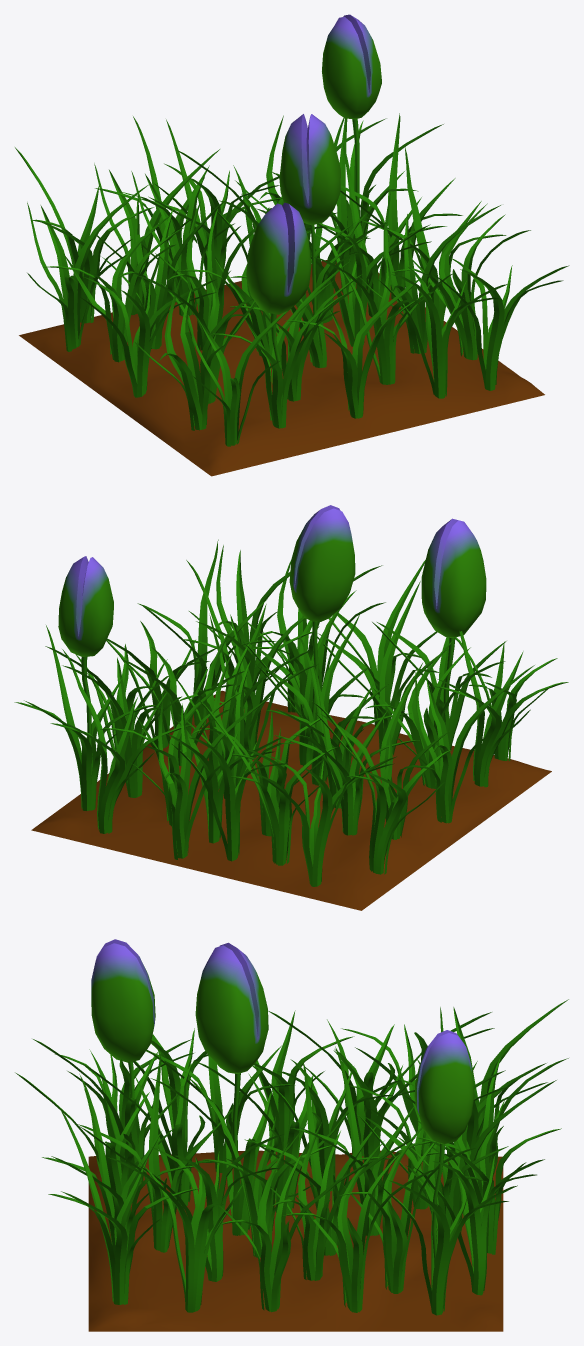
Rendered from purple-tulip-p2-leaf.glb.
3 renders of one model, top to bottom at view 1: azimuth 30°, elevation 25°; view 2: azimuth 150°, elevation 25°; view 3: azimuth 270°, elevation 25°, orthographic. The views are drawn at different scales.
Visible parts, largest first — view 1: 2_nft_out_of_bloom; view 2: 2_nft_out_of_bloom; view 3: 2_nft_out_of_bloom.
Boxes of the visible parts, left/top/right/bottom form: 2_nft_out_of_bloom: left=15, top=14, right=569, bottom=476; 2_nft_out_of_bloom: left=14, top=505, right=568, bottom=910; 2_nft_out_of_bloom: left=15, top=939, right=568, bottom=1331.
Size of the model in its own units: 0.8607 by 0.5516 by 0.9388.
3 materials, 1 textured.
